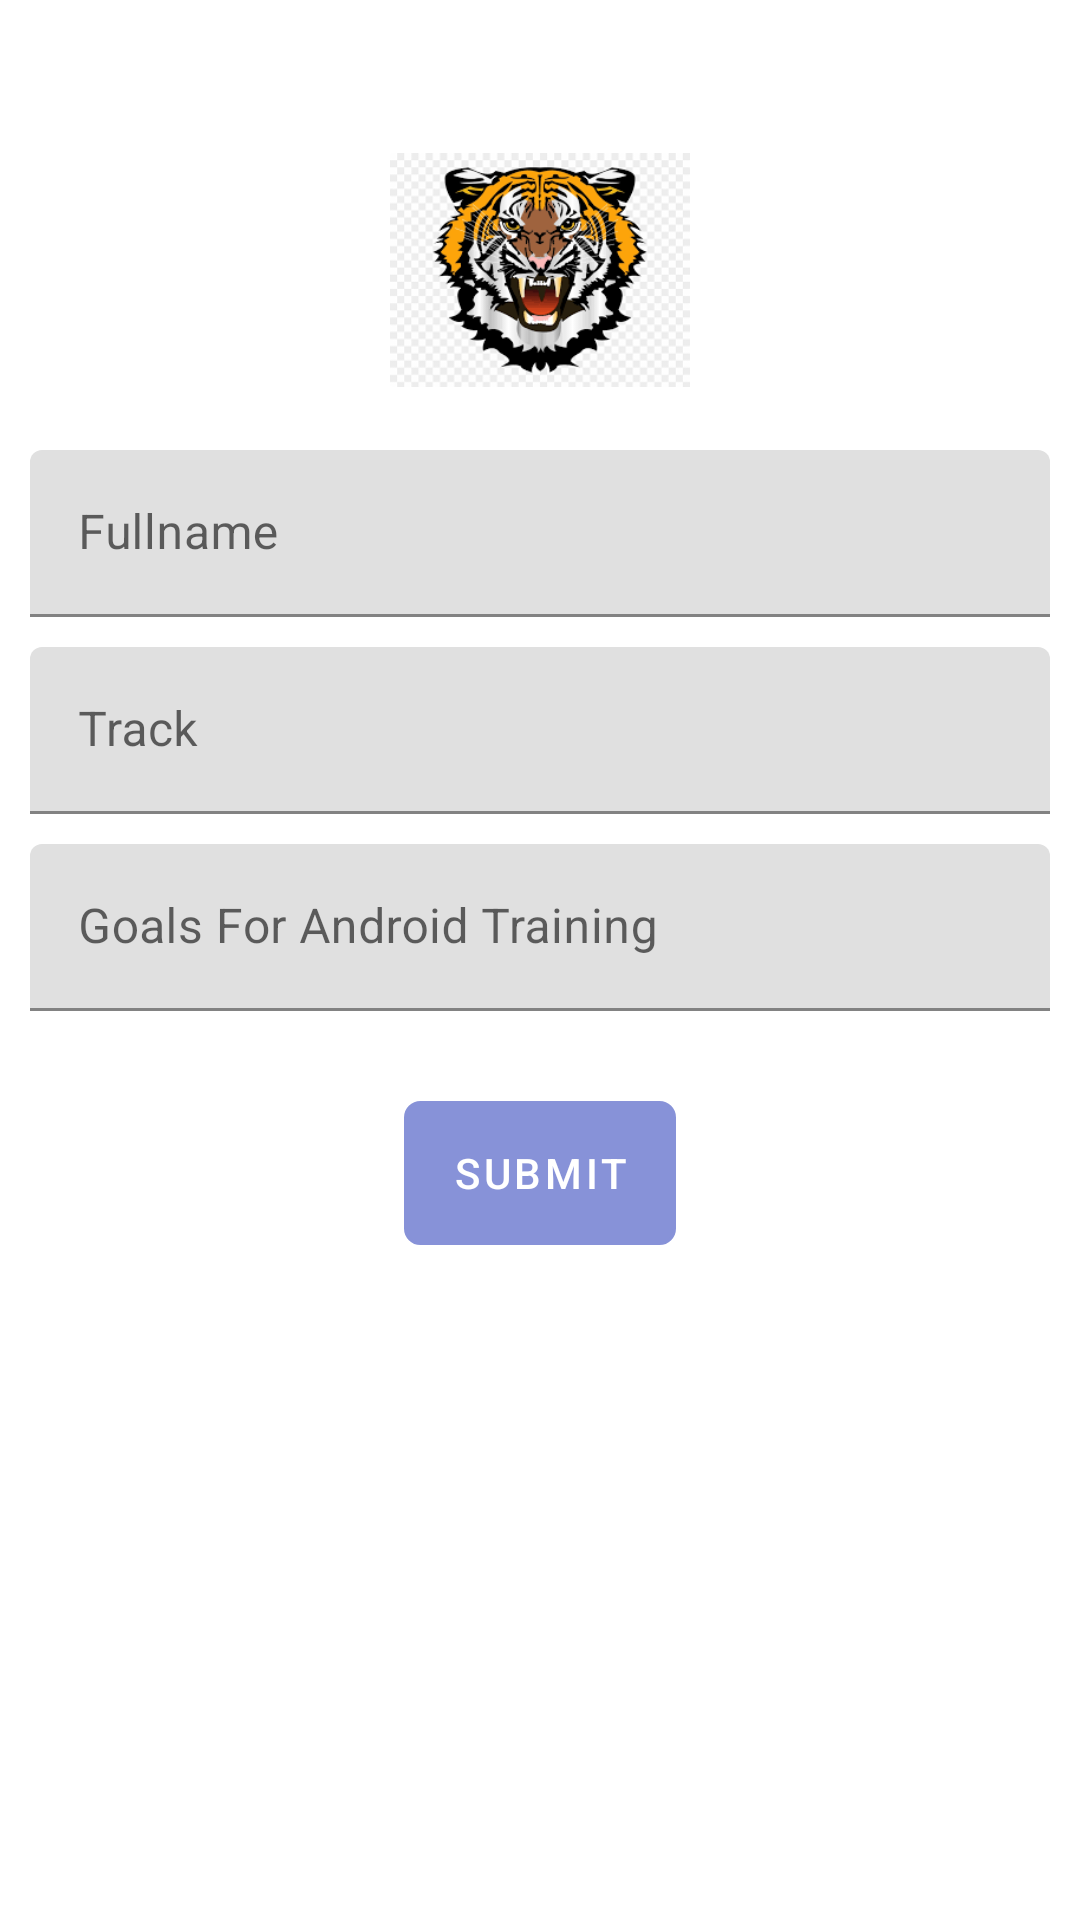

Locate icon controls on the screen. Image size 1080px×1920px, boxes as (x1, y1, x2, y2).
tiger: (433, 167, 647, 373)
